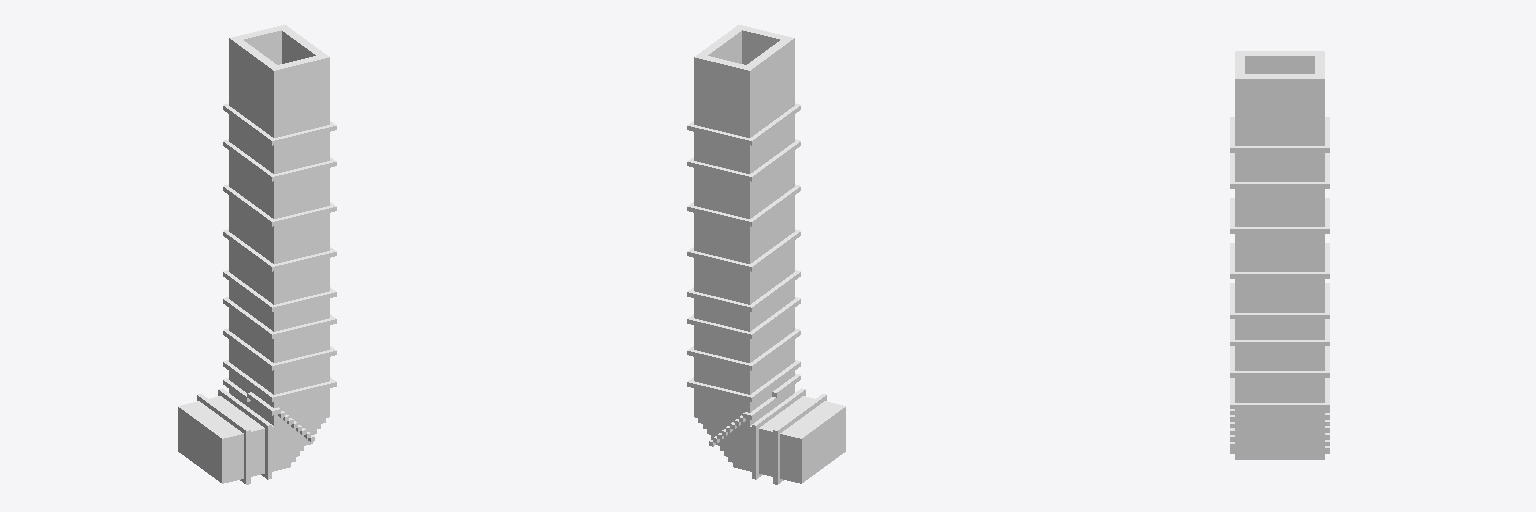
Rendered from alley_assets-13.obj.
The picture shows the model from 3 angles: view 1: azimuth 30°, elevation 25°; view 2: azimuth 150°, elevation 25°; view 3: azimuth 270°, elevation 25°; orthographic projection.
Visible parts, largest first — view 1: object 1; view 2: object 1; view 3: object 1.
Boxes of the visible parts, box(x1,y1,x2,y2) form: object 1: box(178, 25, 336, 484); object 1: box(687, 25, 845, 484); object 1: box(1230, 51, 1329, 459).
Size of the model in its own units: 2.6 by 9 by 2.